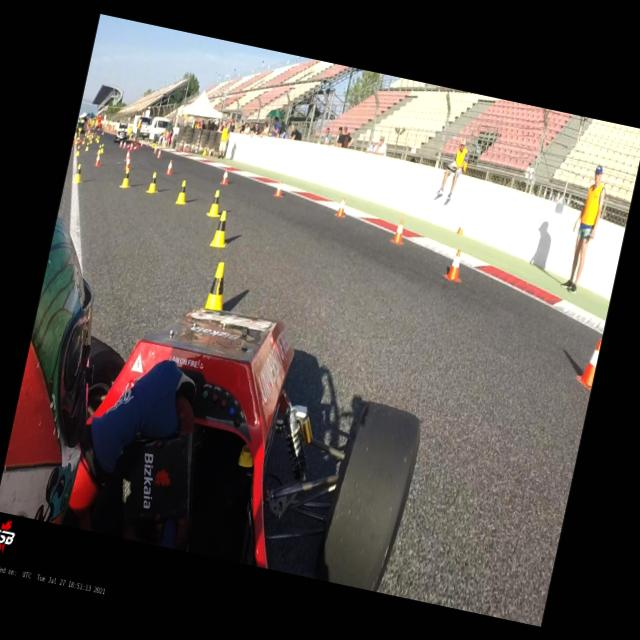orange_cone: (574, 335, 601, 388), (442, 246, 467, 282), (391, 217, 408, 244), (334, 195, 348, 218), (272, 178, 284, 198), (454, 218, 466, 236), (220, 168, 230, 185), (164, 159, 173, 175), (123, 156, 132, 171), (123, 149, 130, 161), (94, 154, 101, 166), (94, 153, 100, 166), (156, 148, 162, 159), (126, 141, 132, 149), (132, 144, 138, 150), (122, 140, 126, 148), (153, 146, 157, 153), (119, 140, 123, 146), (140, 140, 144, 146), (146, 140, 150, 146), (78, 139, 82, 144)
yellow_cone: (204, 260, 231, 312), (209, 209, 233, 249), (205, 188, 225, 218), (174, 179, 190, 206), (144, 170, 160, 193), (118, 166, 134, 188), (71, 162, 84, 185), (74, 144, 80, 156), (100, 142, 106, 153), (96, 144, 102, 154), (202, 146, 208, 155), (84, 142, 89, 150), (96, 135, 100, 143), (152, 142, 156, 148), (82, 137, 85, 143), (95, 134, 98, 140), (90, 137, 92, 143)
